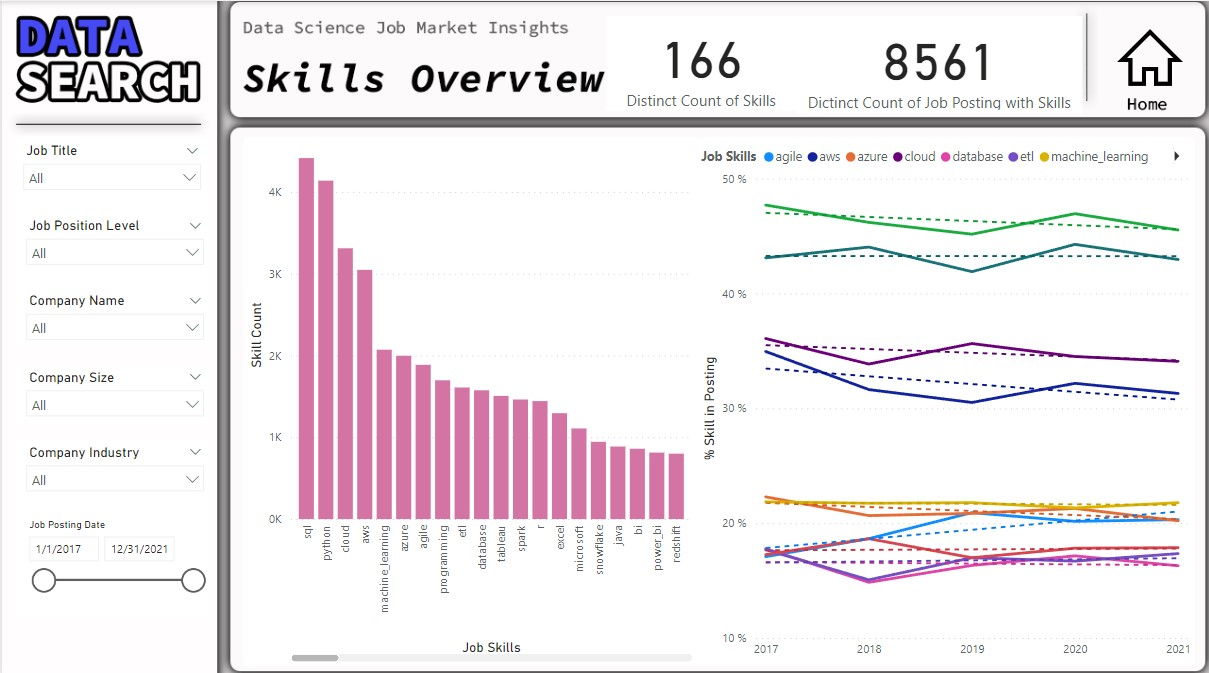

This screenshot's page, from the dashboard's own definition file:
{"tool":"powerbi","page":{"name":"Skills","canvas":[1280,720],"ordinal":2},"visuals":[{"type":"slicer","fields":{"Values":["Job Postings.Job Title"]},"box":[12,144,208,80],"z":0},{"type":"slicer","fields":{"Values":["Job Postings.Job Position Level"]},"box":[16,224,208,80],"z":1000},{"type":"slicer","fields":{"Values":["Job Postings.Company Name"]},"box":[16,304,208,64],"z":2000},{"type":"slicer","fields":{"Values":["Job Postings.Company Size"]},"box":[16,384,208,64],"z":3000},{"type":"slicer","fields":{"Values":["Job Postings.Company Industry"]},"box":[16,464,208,80],"z":4000},{"type":"slicer","fields":{"Values":["Job Postings.Job Posting Date"]},"box":[16,544,208,112],"z":5000},{"type":"clusteredColumnChart","fields":{"Category":["Job Skills.Job Skills"],"Y":["CountNonNull(Job Skills.Job Skills)"]},"box":[256,144,480,560],"z":6000},{"type":"lineChart","fields":{"Y":["_Measures.% Skill in Posting"],"Category":["Job Postings.Job Posting Date.Variation.Date Hierarchy.Year","Job Postings.Job Posting Date.Variation.Date Hierarchy.Quarter","Job Postings.Job Posting Date.Variation.Date Hierarchy.Month","Job Postings.Job Posting Date.Variation.Date Hierarchy.Day"],"Series":["Job Skills.Job Skills"]},"box":[736,144,528,560],"z":7000},{"type":"card","fields":{"Values":["Count(Job Skills.Job Posting ID)"]},"box":[840,16,304,104],"z":8000},{"type":"card","fields":{"Values":["Count(Job Skills.Job Skills)"]},"box":[640,16,200,100],"z":9000},{"type":"image","box":[1176,16,80,88],"z":10000}]}

Visuals, with their boxes in screenshot pixels (x1, y1, x2, y2), scaled from the page's 1280x720 canvas onto the 1209x673 screenshot:
slicer - Job Postings.Job Title: x1=11, y1=135, x2=208, y2=209
slicer - Job Postings.Job Position Level: x1=15, y1=209, x2=212, y2=284
slicer - Job Postings.Company Name: x1=15, y1=284, x2=212, y2=344
slicer - Job Postings.Company Size: x1=15, y1=359, x2=212, y2=419
slicer - Job Postings.Company Industry: x1=15, y1=434, x2=212, y2=508
slicer - Job Postings.Job Posting Date: x1=15, y1=508, x2=212, y2=613
clusteredColumnChart - Job Skills.Job Skills x CountNonNull(Job Skills.Job Skills): x1=242, y1=135, x2=695, y2=658
lineChart - _Measures.% Skill in Posting x Job Postings.Job Posting Date.Variation.Date Hierarchy.Year: x1=695, y1=135, x2=1194, y2=658
card - Count(Job Skills.Job Posting ID): x1=793, y1=15, x2=1081, y2=112
card - Count(Job Skills.Job Skills): x1=604, y1=15, x2=793, y2=108
image: x1=1111, y1=15, x2=1186, y2=97
